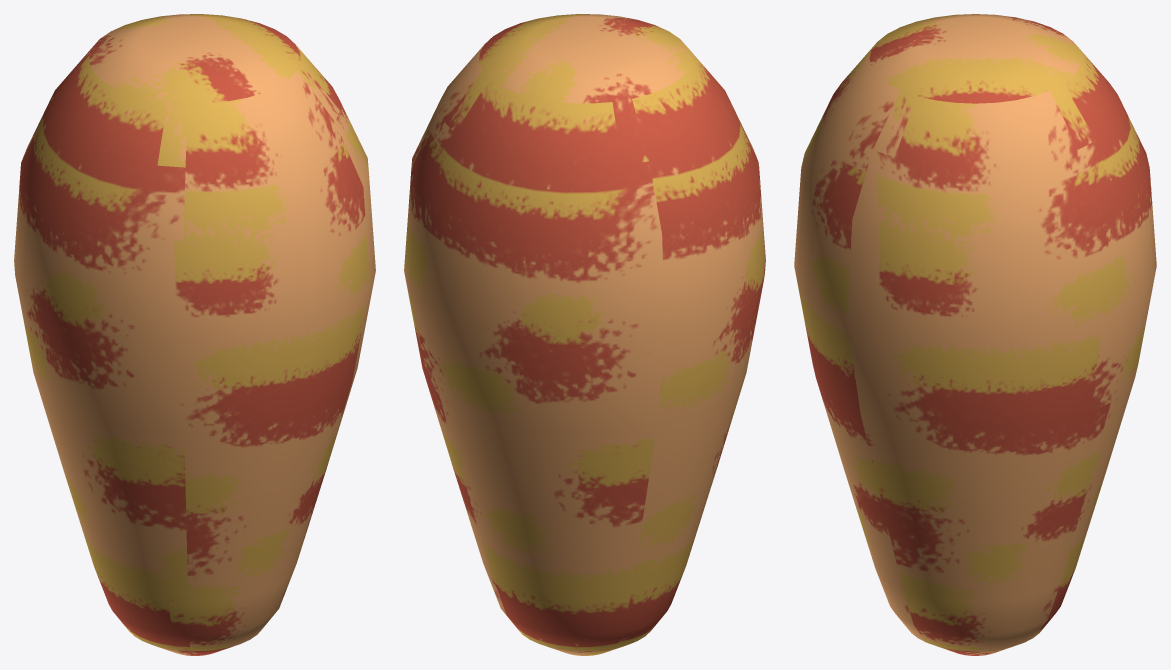
3 renders of one model, left to right at view 1: azimuth 30°, elevation 25°; view 2: azimuth 150°, elevation 25°; view 3: azimuth 270°, elevation 25°, orthographic.
Parts seen in each view (by area): view 1: 锥体; view 2: 锥体; view 3: 锥体.
Boxes of the visible parts, <box> form: 锥体: <box>14,14,375,655</box>; 锥体: <box>404,14,765,655</box>; 锥体: <box>794,14,1156,655</box>.
Bounding box in the file's own units: 416 × 762 × 416.
